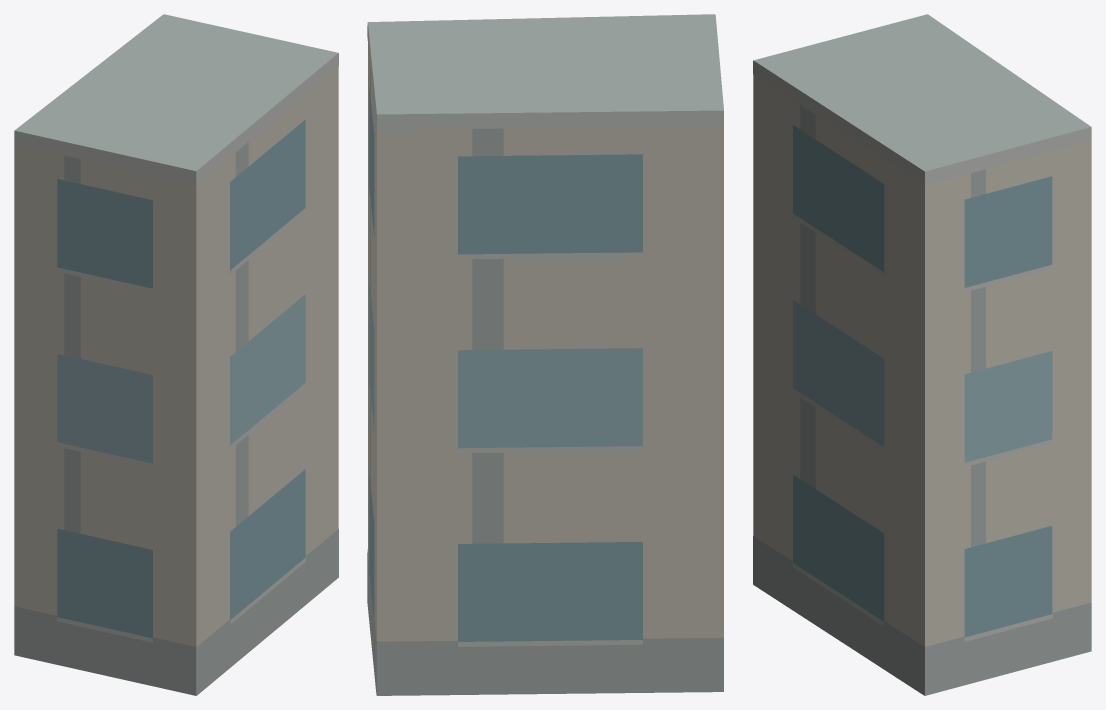
The model's file is survey-upis-32808718.glb.
3 renders of one model, left to right at view 1: azimuth 30°, elevation 25°; view 2: azimuth 150°, elevation 25°; view 3: azimuth 270°, elevation 25°, orthographic. The views are drawn at different scales.
Parts seen in each view (by area): view 1: survey-upis-32808718.tmp; view 2: survey-upis-32808718.tmp; view 3: survey-upis-32808718.tmp.
Boxes of the visible parts, x1,y1,x2,y2 form: survey-upis-32808718.tmp: (14, 14, 338, 695); survey-upis-32808718.tmp: (367, 14, 723, 695); survey-upis-32808718.tmp: (753, 14, 1091, 695).
Size of the model in its own units: 5.9 by 9.15 by 5.36.
